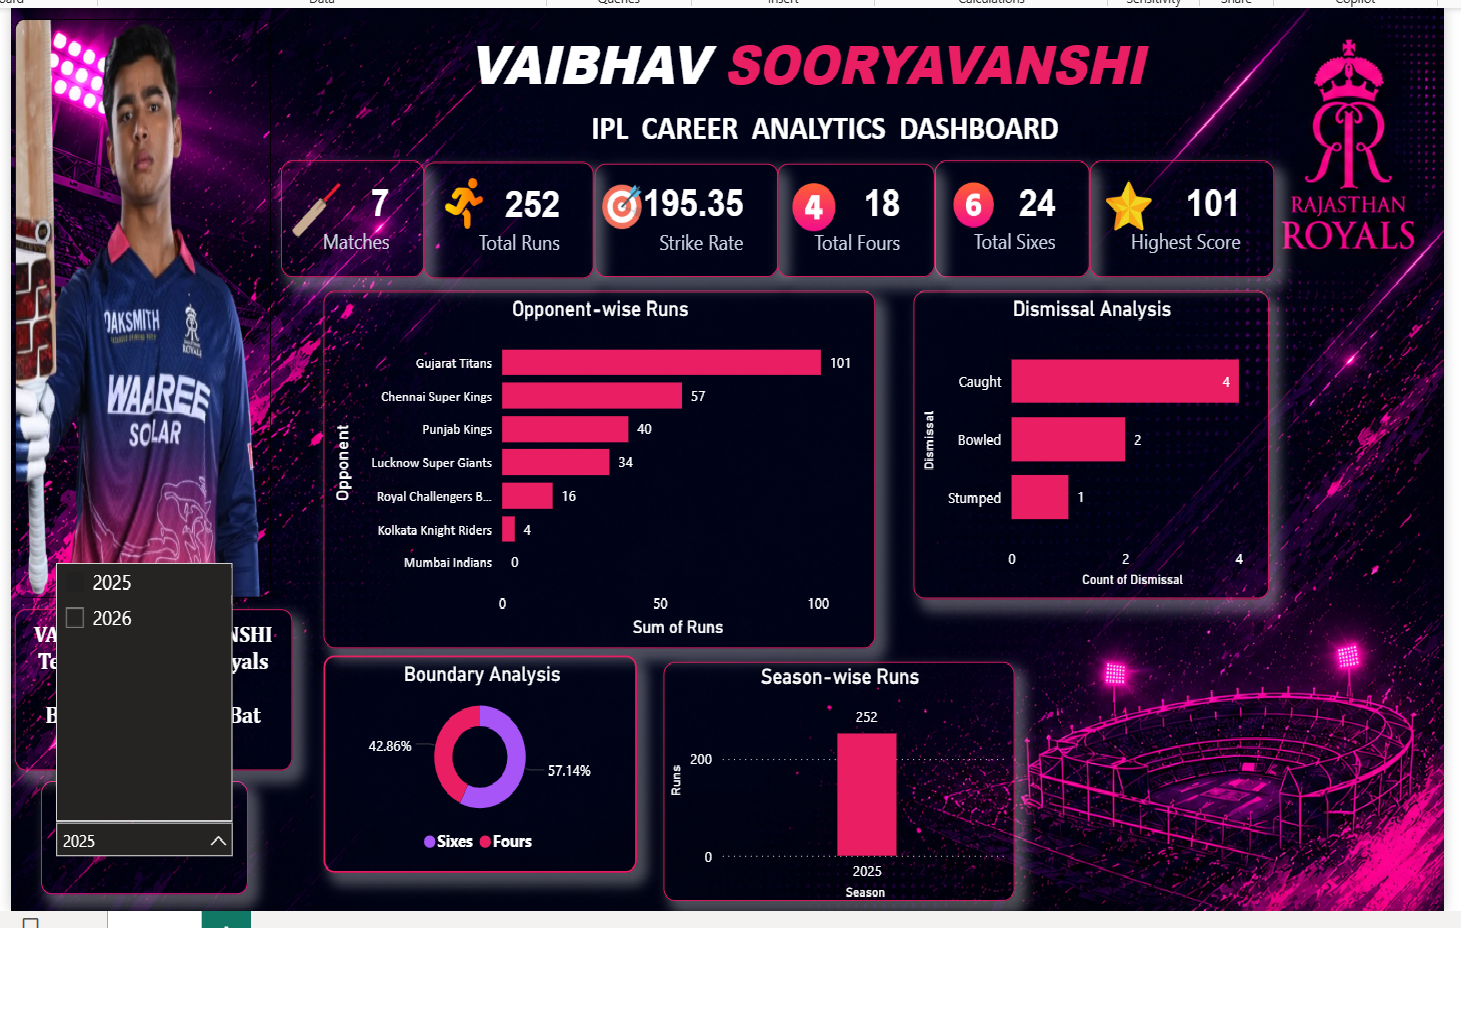

This screenshot's page, from the dashboard's own definition file:
{"tool":"powerbi","page":{"name":"Page 1","canvas":[1280,720],"ordinal":0},"visuals":[{"type":"cardVisual","fields":{"Data":["Vaibhav_Sooryavanshi_IPL_Dataset.Matches"]},"box":[240.7,122.1,127.9,93],"z":0},{"type":"barChart","title":"Opponent-wise Runs","fields":{"Category":["Vaibhav_Sooryavanshi_IPL_Dataset.Opponent"],"Y":["Sum(Vaibhav_Sooryavanshi_IPL_Dataset.Runs)"]},"box":[279.2,225.6,492.4,284.7],"z":1000},{"type":"clusteredColumnChart","title":"Season-wise Runs","fields":{"Category":["Vaibhav_Sooryavanshi_IPL_Dataset.Date.Variation.Date Hierarchy.Year"],"Y":["Vaibhav_Sooryavanshi_IPL_Dataset.Total Runs"]},"box":[582.6,520.9,314,190.7],"z":2000},{"type":"slicer","fields":{"Values":["Vaibhav_Sooryavanshi_IPL_Dataset.Season"]},"box":[26.7,616.3,184.9,90.7],"z":3000},{"type":"clusteredBarChart","title":"Dismissal Analysis","fields":{"Category":["Vaibhav_Sooryavanshi_IPL_Dataset.Dismissal"],"Y":["CountNonNull(Vaibhav_Sooryavanshi_IPL_Dataset.Dismissal)"]},"box":[805.8,225.6,317.4,245.3],"z":4000},{"type":"textbox","box":[3.5,479.1,247.7,129.1],"z":5000},{"type":"donutChart","title":"Boundary Analysis","fields":{"Category":["BoundaryType.BoundaryType"],"Y":["BoundaryType.Boundary Count"]},"box":[279.1,516.3,280.2,173.3],"z":6000},{"type":"cardVisual","fields":{"Data":["Vaibhav_Sooryavanshi_IPL_Dataset.Total Runs"]},"box":[368.6,123.3,152.3,93],"z":7000},{"type":"cardVisual","fields":{"Data":["Vaibhav_Sooryavanshi_IPL_Dataset.Strike Rate"]},"box":[520.9,124.4,164,90.7],"z":8000},{"type":"cardVisual","fields":{"Data":["Vaibhav_Sooryavanshi_IPL_Dataset.Total Sixes"]},"box":[825.6,122.1,138.4,93],"z":9000},{"type":"cardVisual","fields":{"Data":["Vaibhav_Sooryavanshi_IPL_Dataset.Highest Score"]},"box":[964,122.1,165.1,93],"z":10000},{"type":"cardVisual","fields":{"Data":["Vaibhav_Sooryavanshi_IPL_Dataset.Total Fours"]},"box":[684.9,124.4,140.7,90.7],"z":11000},{"type":"image","box":[527.9,132.6,34.9,51.2],"z":12000},{"type":"image","box":[251.2,136,43,50],"z":13000},{"type":"image","box":[977.9,137.2,40.7,40.7],"z":14000},{"type":"image","box":[695.4,139.5,43,38.4],"z":15000},{"type":"image","box":[381.4,125.6,45.3,61.6],"z":16000},{"type":"image","box":[841.9,131.4,36,50],"z":17000},{"type":"image","box":[3.5,9.3,229.1,461.6],"z":18000},{"type":"textbox","box":[404.7,9.3,636,80.2],"z":19000},{"type":"textbox","box":[514,73.3,450,48.8],"z":20000}]}

Visuals, with their boxes on the page's 1280x720 design canvas (x1, y1, x2, y2). These are canvas units, not pixel positions in the 1461x1011 screenshot, which may show the page scaled, cropped or inside an application window:
cardVisual - Vaibhav_Sooryavanshi_IPL_Dataset.Matches: x1=241 y1=122 x2=369 y2=215
"Opponent-wise Runs" barChart: x1=279 y1=226 x2=772 y2=510
"Season-wise Runs" clusteredColumnChart: x1=583 y1=521 x2=897 y2=712
slicer - Vaibhav_Sooryavanshi_IPL_Dataset.Season: x1=27 y1=616 x2=212 y2=707
"Dismissal Analysis" clusteredBarChart: x1=806 y1=226 x2=1123 y2=471
textbox: x1=4 y1=479 x2=251 y2=608
"Boundary Analysis" donutChart: x1=279 y1=516 x2=559 y2=690
cardVisual - Vaibhav_Sooryavanshi_IPL_Dataset.Total Runs: x1=369 y1=123 x2=521 y2=216
cardVisual - Vaibhav_Sooryavanshi_IPL_Dataset.Strike Rate: x1=521 y1=124 x2=685 y2=215
cardVisual - Vaibhav_Sooryavanshi_IPL_Dataset.Total Sixes: x1=826 y1=122 x2=964 y2=215
cardVisual - Vaibhav_Sooryavanshi_IPL_Dataset.Highest Score: x1=964 y1=122 x2=1129 y2=215
cardVisual - Vaibhav_Sooryavanshi_IPL_Dataset.Total Fours: x1=685 y1=124 x2=826 y2=215
image: x1=528 y1=133 x2=563 y2=184
image: x1=251 y1=136 x2=294 y2=186
image: x1=978 y1=137 x2=1019 y2=178
image: x1=695 y1=140 x2=738 y2=178
image: x1=381 y1=126 x2=427 y2=187
image: x1=842 y1=131 x2=878 y2=181
image: x1=4 y1=9 x2=233 y2=471
textbox: x1=405 y1=9 x2=1041 y2=90
textbox: x1=514 y1=73 x2=964 y2=122
